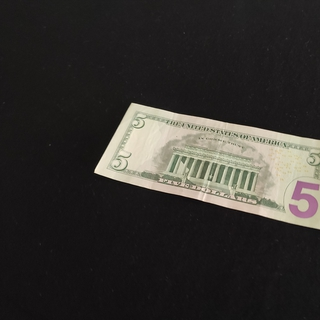5USDBack: (93, 102, 320, 230)
